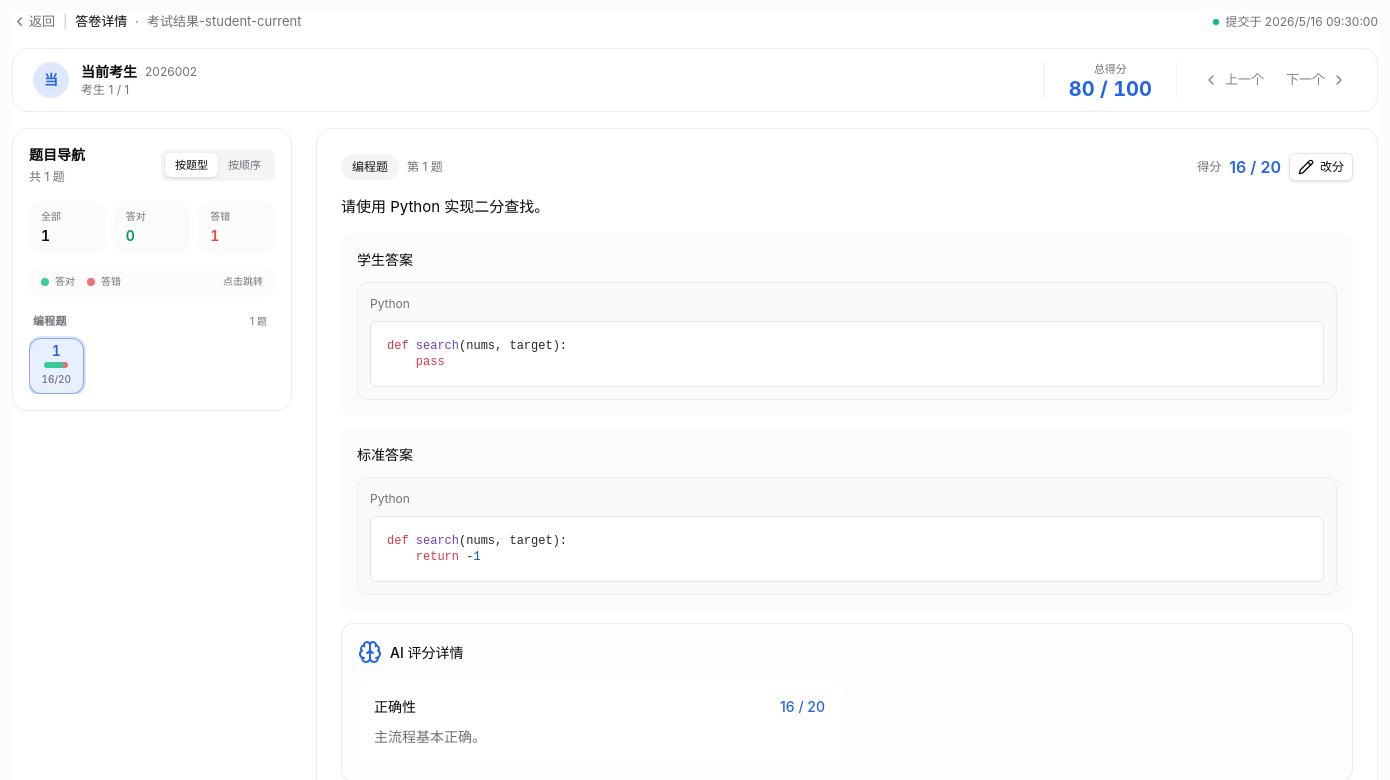
Test: StudentAnswerPage › lets teachers manually update a question score from the answer detail
The image size is (1390, 780).
Expected: the 1st text "16 / 20" is shown, [1229,155,1281,179]
Click the button "改分" at (1321, 167), box [1289,153,1353,181]
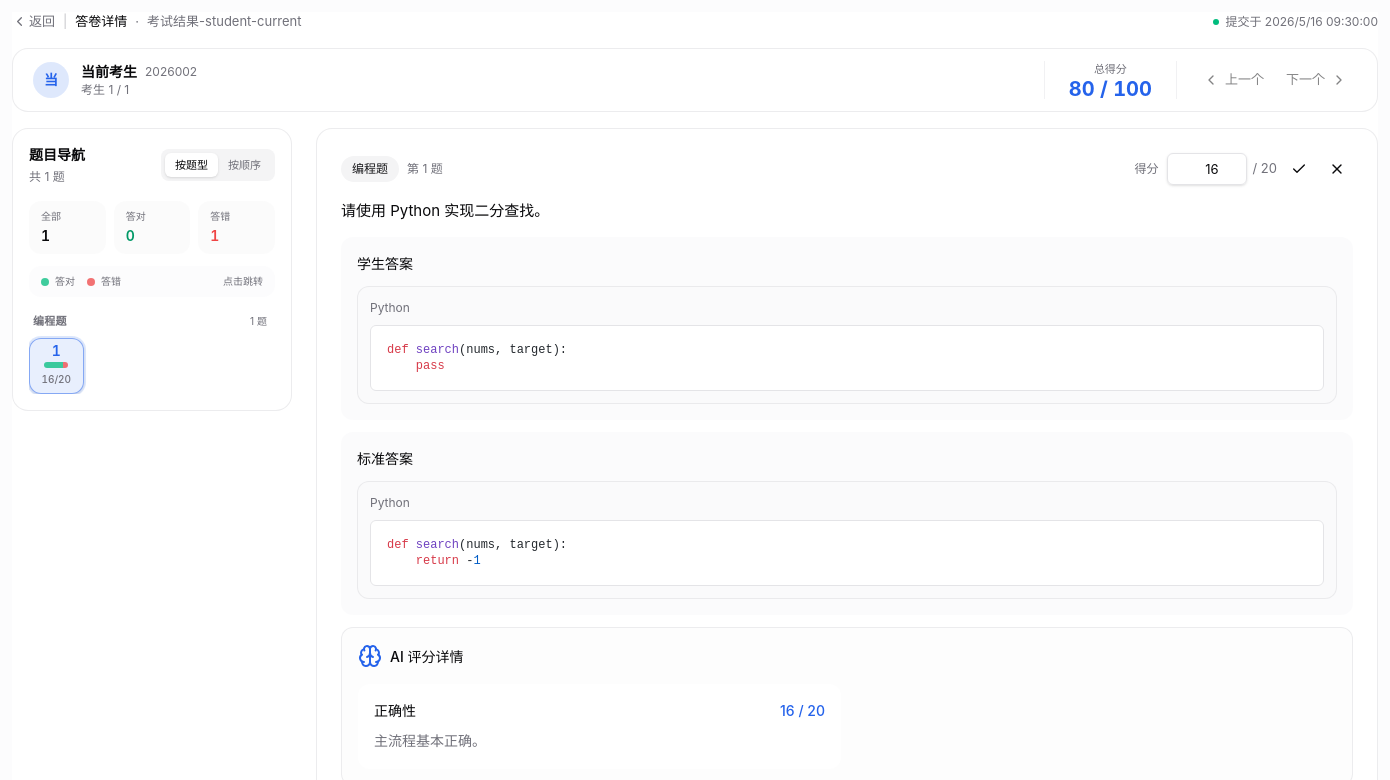
Replace the text in the number field named "本题得分" with "18" at (1206, 169), box [1166,153,1246,185]
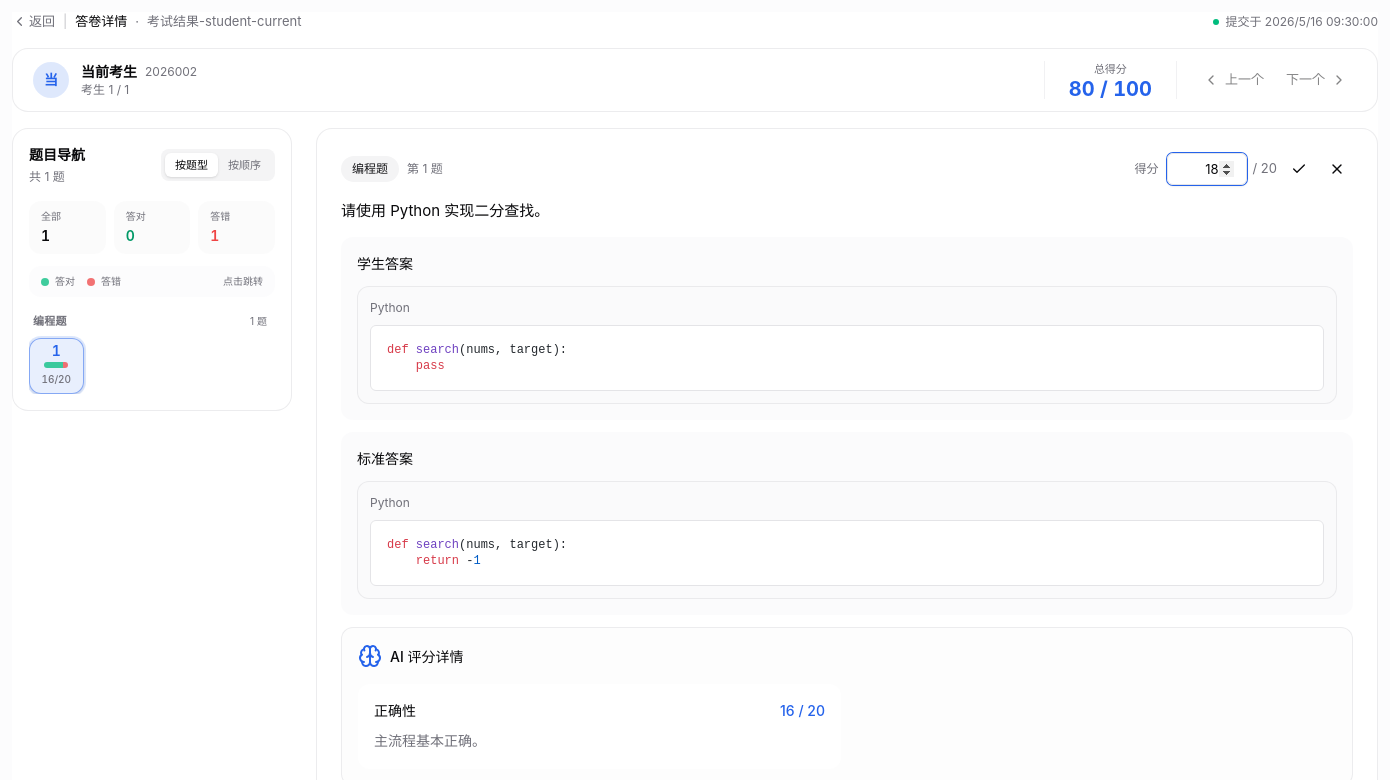
Click the button named "保存分数" at (1299, 169), box [1283,153,1315,185]
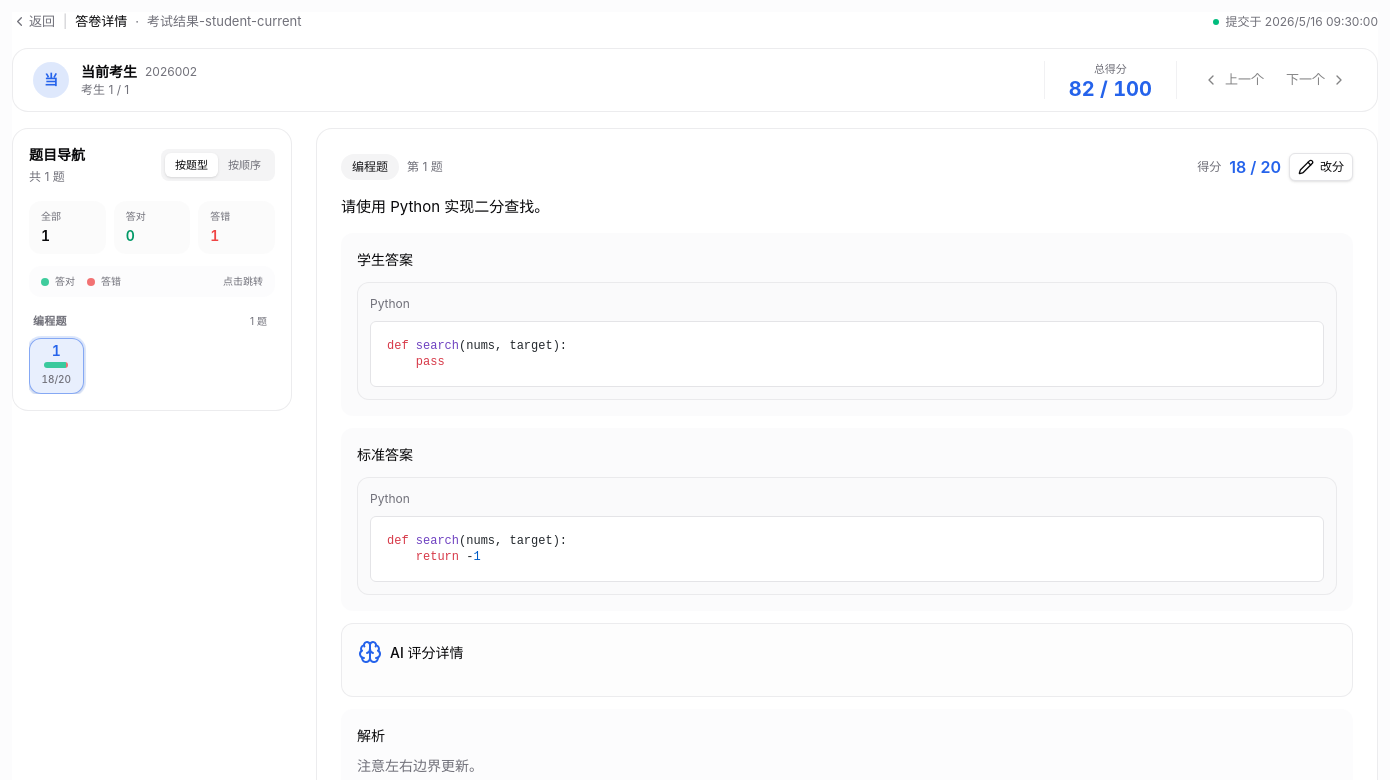
Now the text "18 / 20" is shown, box [1229,155,1281,179]
Now the text "82 / 100" is shown, box [1069,79,1152,99]
